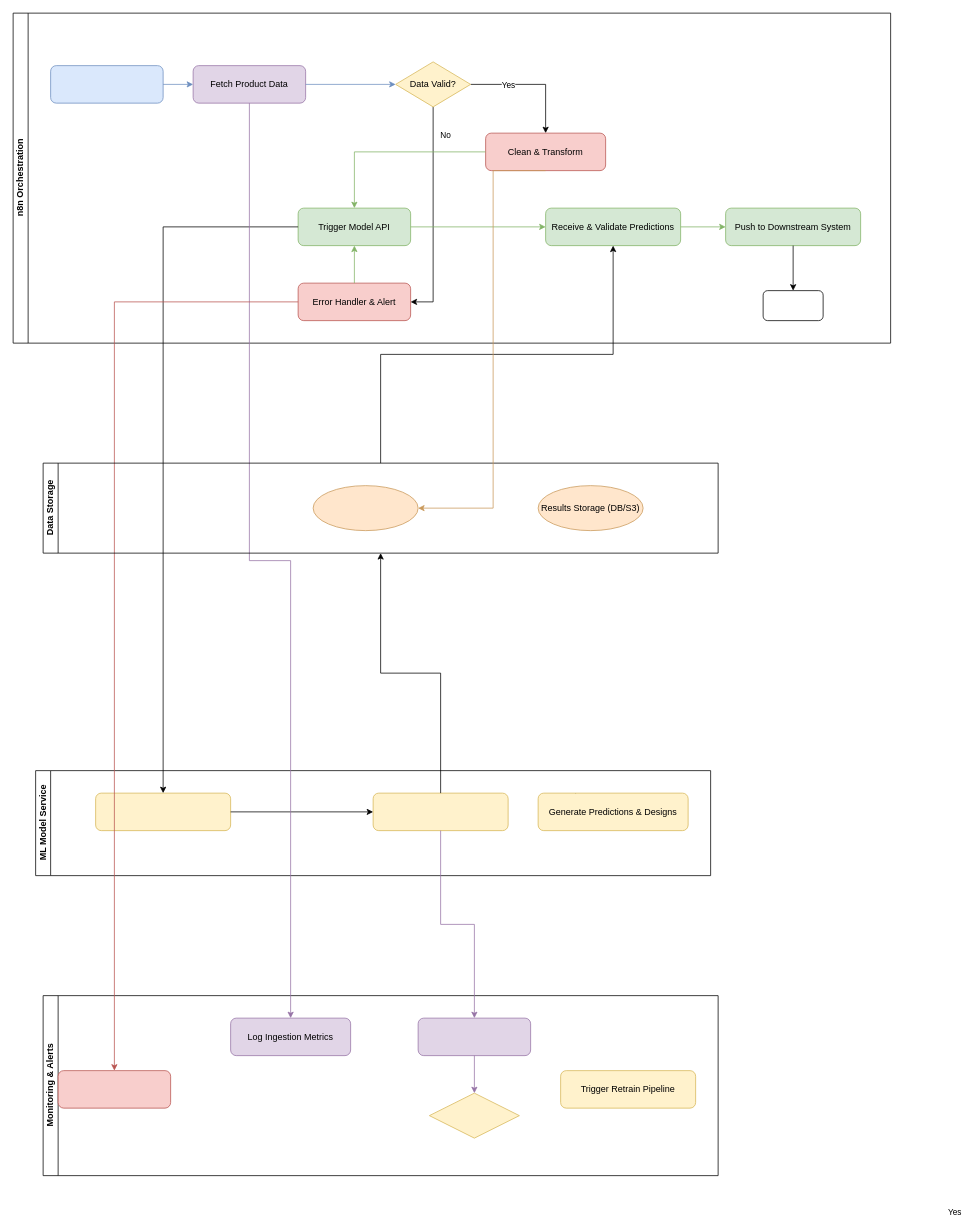
The diagram is 975 pixels wide and 1231 high, and some of its shapes have lost their labels. Here are the shapes that lost their labels. From the top down, the centre of each, then its label:
point (106, 84): Receive Item Request
point (792, 305): End
point (365, 508): Raw Data Storage (DB/S3)
point (163, 811): Auth & Rate-Limit Check
point (440, 811): Flask/FastAPI Endpoint
point (474, 1036): Log Model Metrics
point (114, 1089): Send Failure Alert
point (474, 1115): Drift Detected?
